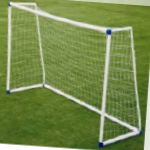goals: (5, 1, 143, 146)
